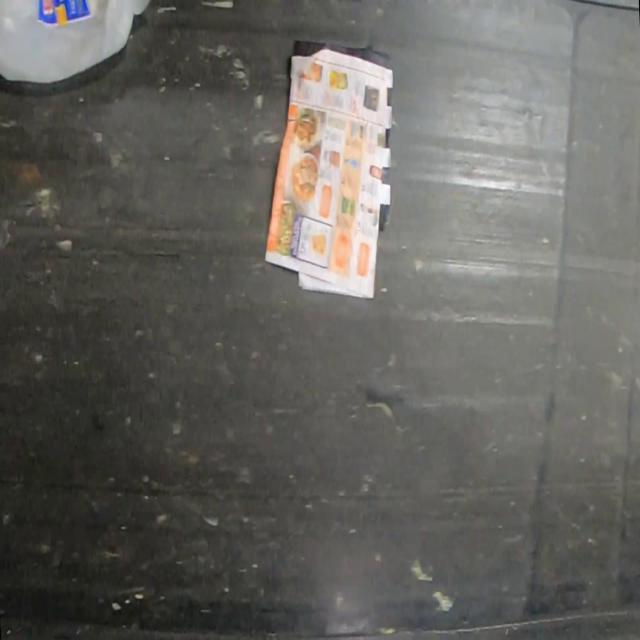rigid_plastic: (0, 0, 154, 85)
